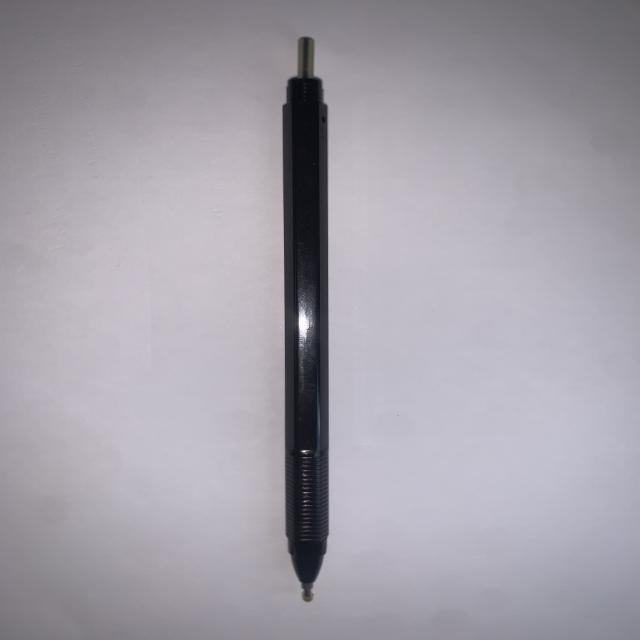Pulpen: (260, 34, 365, 620)
